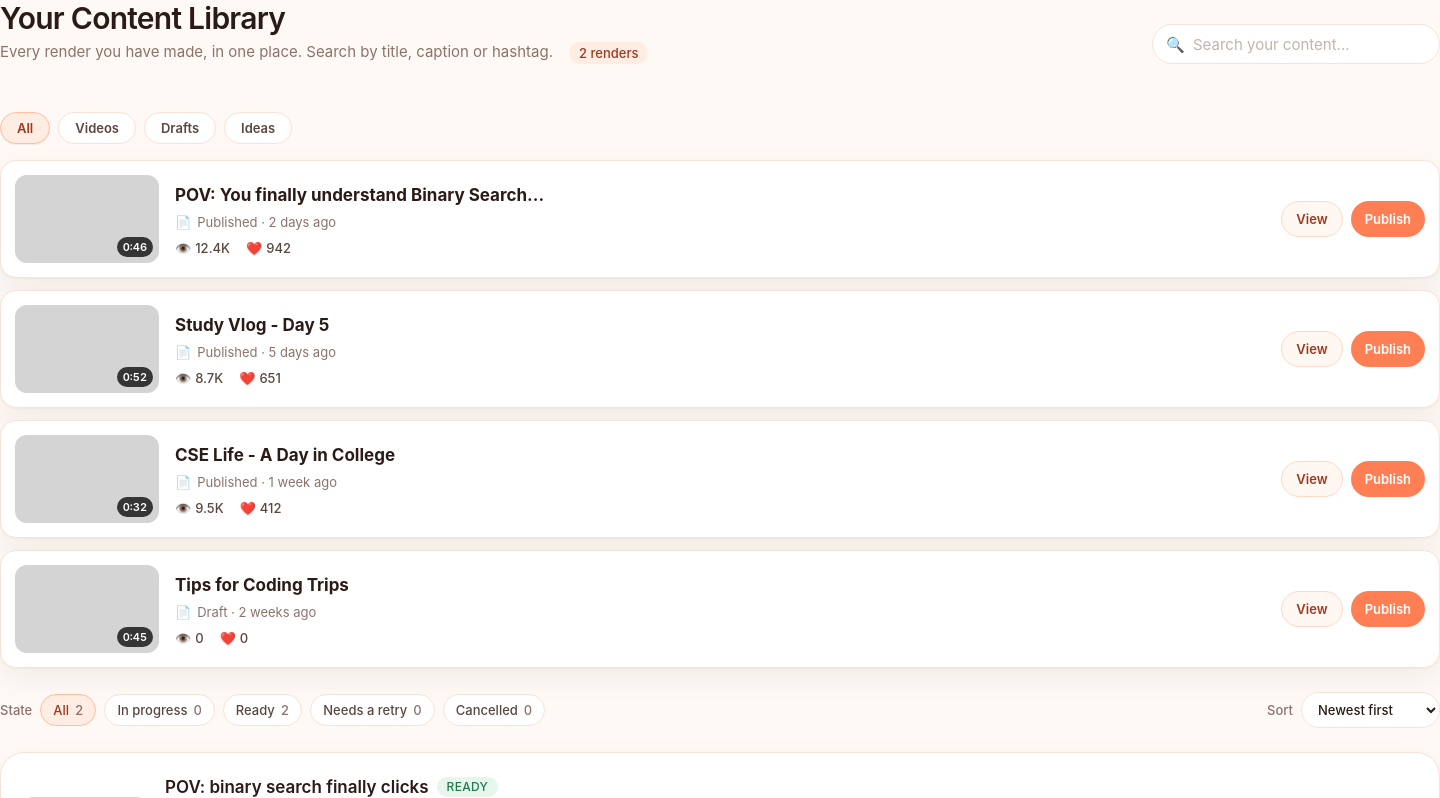
Test case: LibraryPage › searches titles, captions and hashtags
Note: Caption text on the first item.
Step 1. Type "one bug" into the search field named "Search your library" → (1296, 44), box top-left (1152, 24), bottom-right (1439, 64)
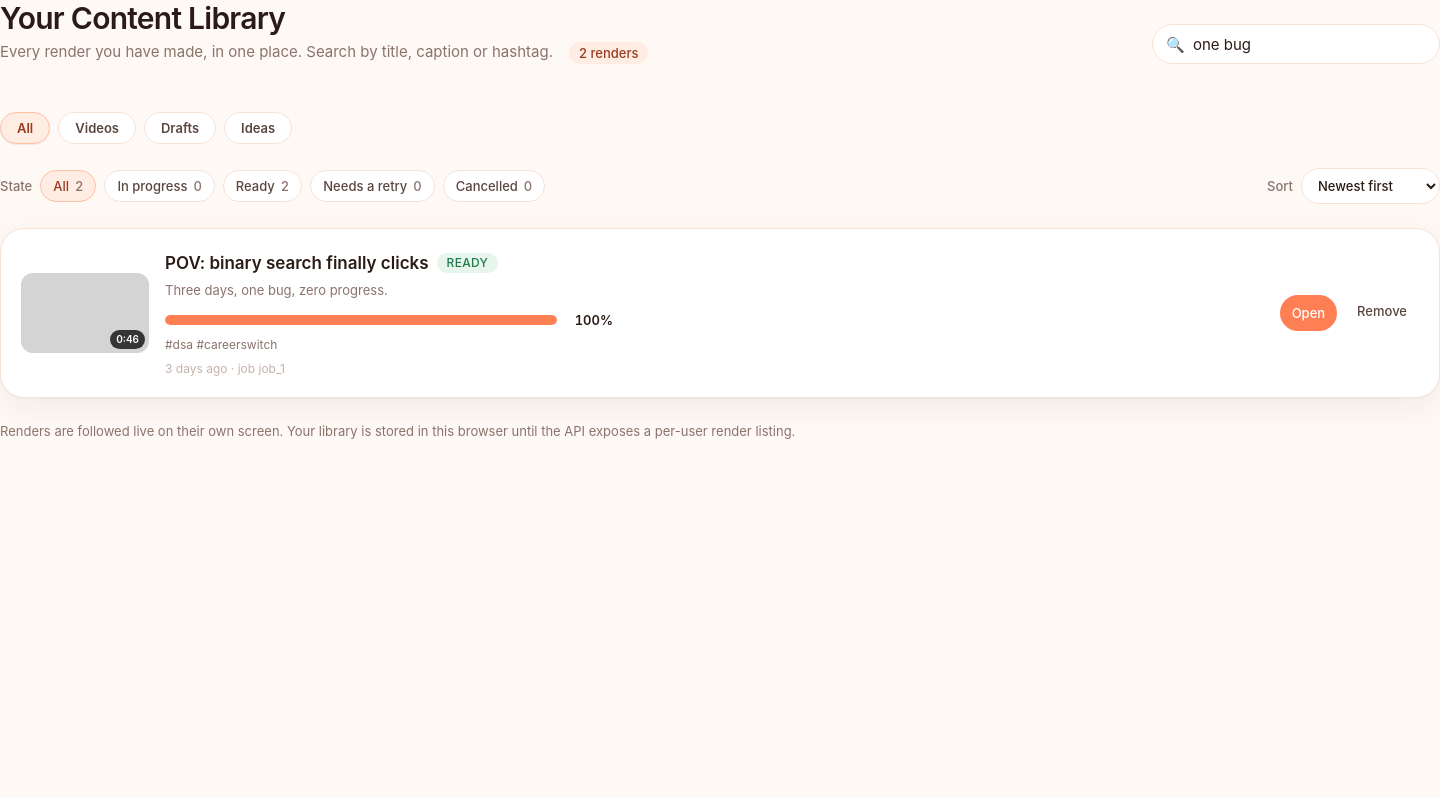
Note: Hashtag on the second item.
Step 2. Replace the text in the search field named "Search your library" with "#recursion" → (1296, 44), box top-left (1152, 24), bottom-right (1439, 64)
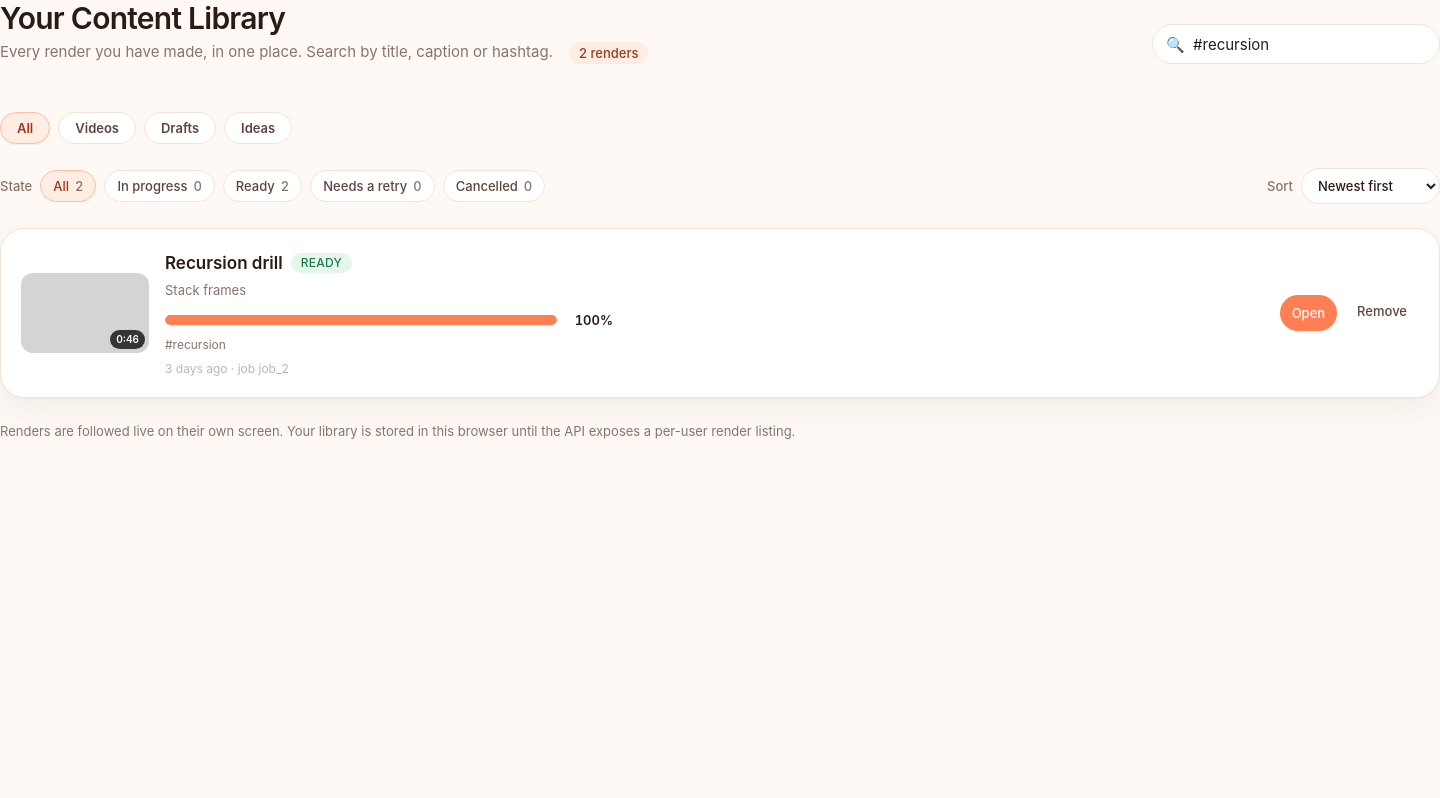
Check: the link "Recursion drill" is shown, box top-left (165, 253), bottom-right (283, 273)
Check: the link "POV: binary search finally clicks" is gone
